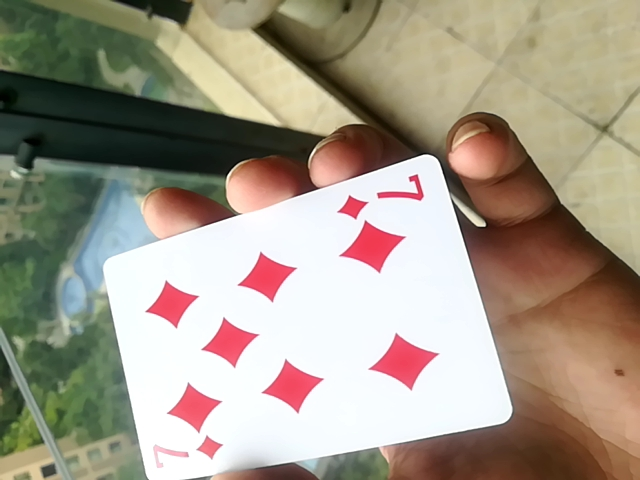fk 7: (104, 149, 505, 480)
